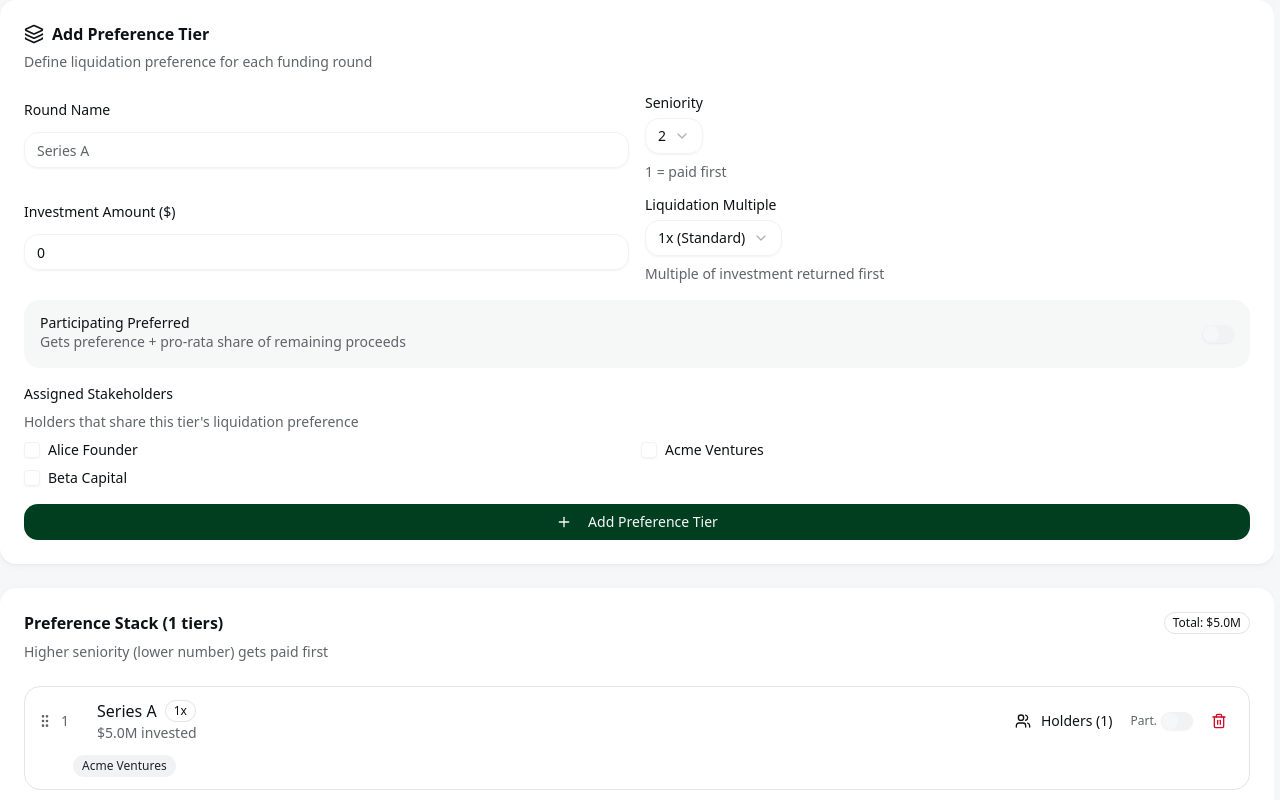
Test: PreferenceStackEditor stakeholder assignment › points the Holders toggle at the region it opens
Click the button "Holders (1)" at [1064, 721], box x1=1005 y1=705 x2=1122 y2=737
(page scrolled)
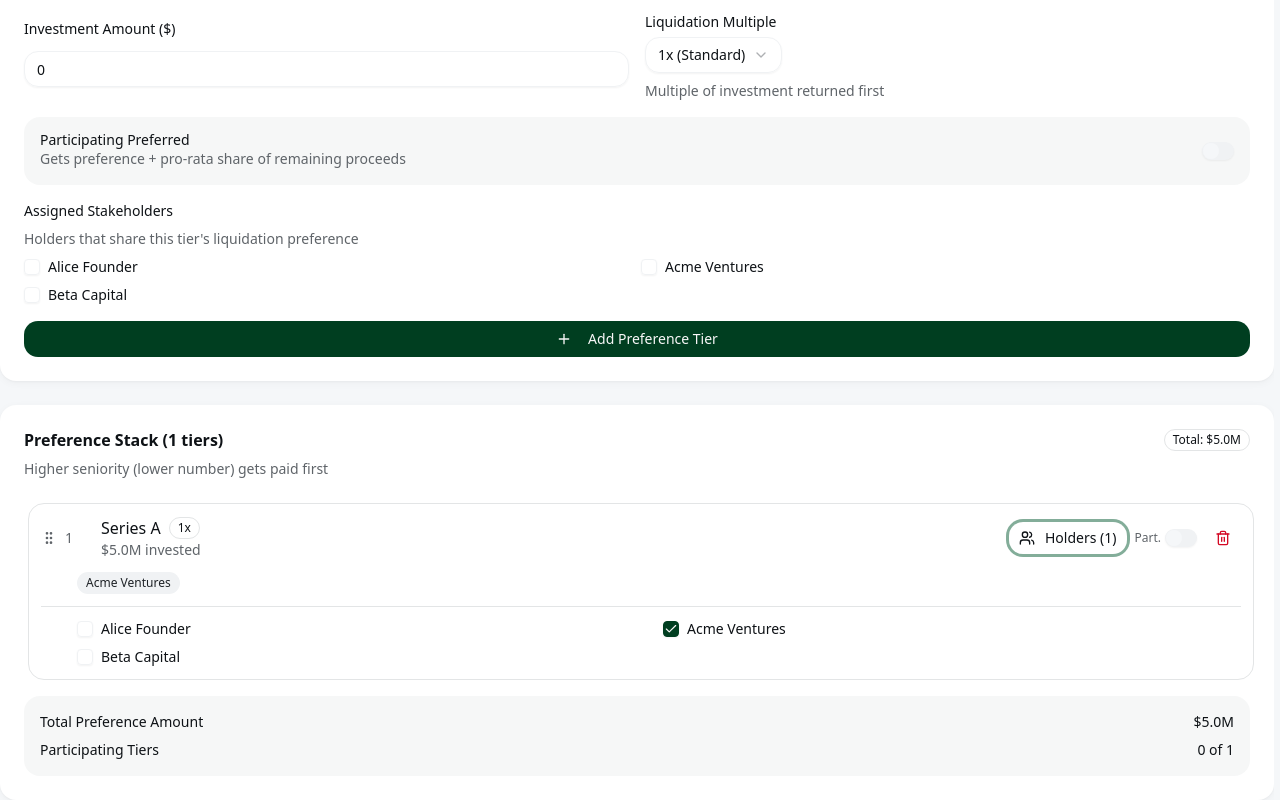
Result: the element named "Stakeholders assigned to Series A" is shown at x1=76 y1=619 x2=786 y2=666
